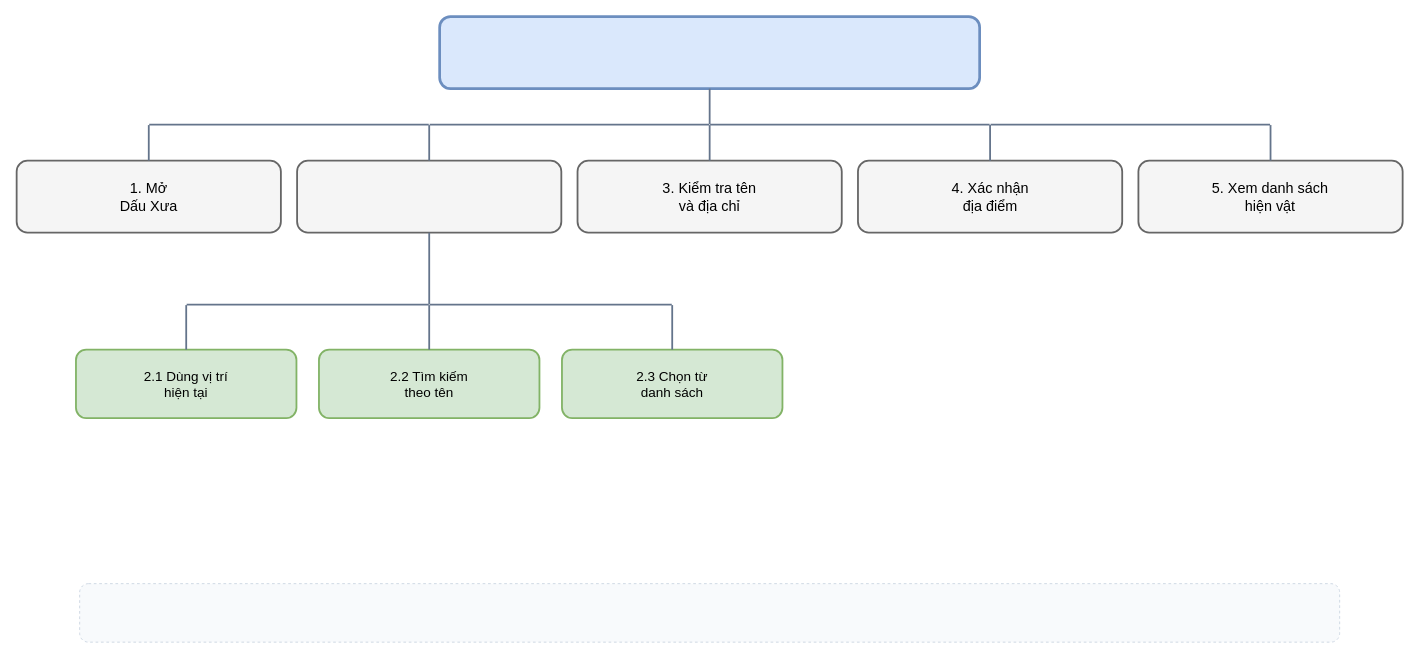
Image size: 1418x658. Some labels were removed from this diagram. Here are the shapes that lost their labels. From the top down, the centre of each, then its label:
pixel 709 52: 0. Chọn đúng địa điểm đang tham quan
pixel 429 196: 2. Tìm địa điểm
pixel 709 612: Plan 0: 1 → 2 (chọn 2.1, 2.2 hoặc 2.3) → 3 → 4 → 5; sai địa điểm thì quay lại 2.
